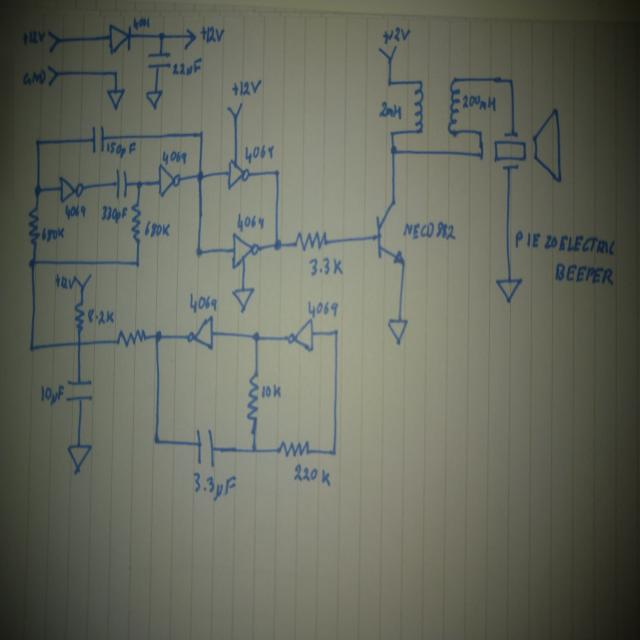capacitor: (194, 427, 216, 469), (65, 377, 93, 402), (146, 50, 171, 72), (90, 124, 106, 154), (114, 166, 128, 199)
crossover: (74, 336, 86, 351)
diode: (105, 22, 134, 56)
ground: (65, 440, 95, 478), (494, 276, 524, 304), (230, 284, 256, 314), (386, 318, 409, 347), (106, 87, 125, 111), (144, 88, 164, 110)
inductor: (411, 75, 425, 136), (448, 74, 460, 137)
junction: (30, 180, 44, 200), (194, 168, 209, 186), (150, 327, 166, 343), (249, 327, 263, 344), (270, 236, 283, 253), (148, 433, 162, 448), (26, 254, 38, 271), (326, 446, 339, 460), (192, 244, 204, 259), (156, 28, 167, 44), (196, 127, 208, 141), (272, 165, 284, 179), (134, 176, 144, 192), (248, 443, 260, 456), (25, 342, 37, 355), (33, 136, 45, 149), (111, 66, 123, 79), (388, 142, 399, 156), (332, 325, 344, 337), (132, 257, 143, 270), (505, 76, 516, 88), (476, 150, 486, 162), (475, 126, 485, 138), (387, 128, 397, 138), (385, 78, 394, 88)
resistor: (245, 368, 261, 423), (292, 231, 329, 252), (112, 326, 149, 346), (274, 439, 312, 458), (25, 204, 40, 250), (129, 200, 142, 248), (72, 296, 85, 334)
terminal: (74, 272, 94, 294), (375, 44, 400, 61), (46, 30, 63, 54), (224, 100, 246, 118), (46, 62, 61, 87), (182, 27, 197, 51)
text: (512, 228, 616, 258), (553, 260, 615, 288), (401, 216, 458, 244), (192, 470, 237, 502), (291, 462, 331, 487), (462, 91, 500, 116), (379, 20, 412, 46), (242, 141, 276, 166), (308, 256, 344, 278), (235, 209, 267, 233), (171, 56, 204, 78), (198, 22, 227, 47), (187, 291, 217, 314), (306, 298, 340, 318), (229, 78, 263, 97), (37, 383, 65, 406), (100, 203, 128, 225), (85, 306, 115, 326), (143, 219, 172, 239), (106, 140, 137, 158), (52, 271, 75, 293), (160, 148, 188, 166), (41, 224, 67, 243), (63, 203, 89, 222), (378, 99, 401, 120), (260, 382, 284, 401), (21, 69, 46, 86), (21, 28, 45, 45), (132, 15, 150, 32)
transistor: (369, 196, 406, 268)
